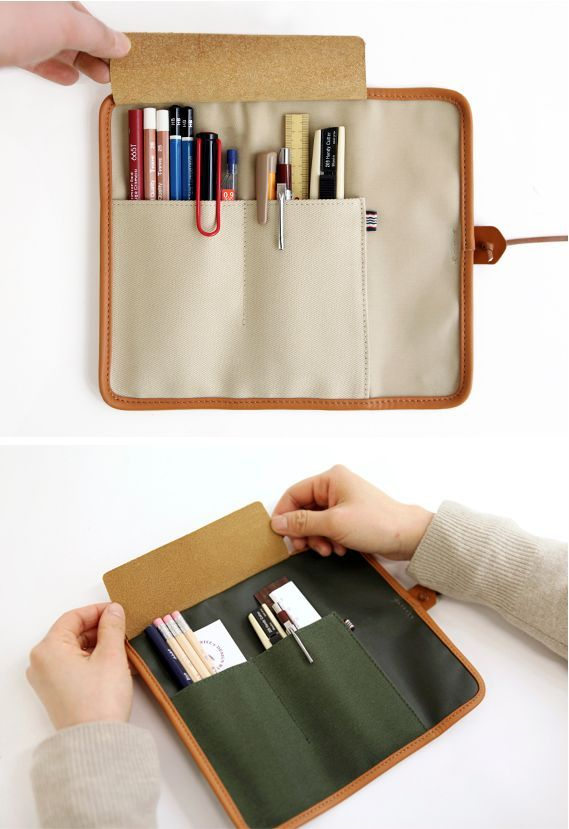cuero: (97, 87, 508, 829)
